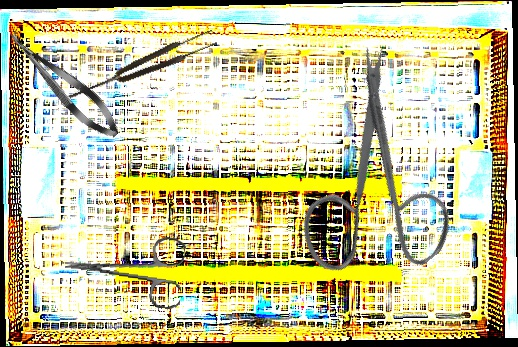Iris Scissors: (229, 37, 507, 318), (61, 227, 187, 310)
Micro Scissor: (0, 22, 128, 147)
Tissue Forceps: (65, 27, 219, 106)
